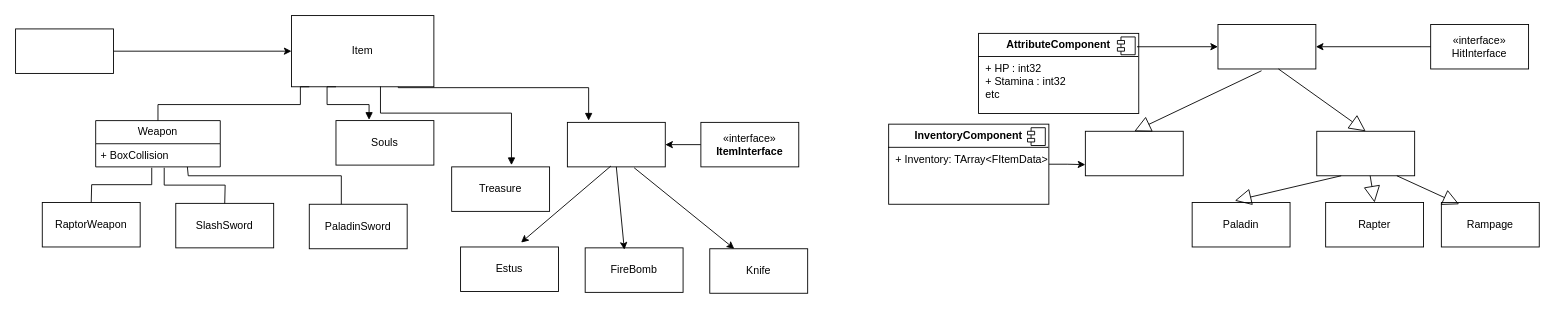
The diagram is 1555 pixels wide and 309 high, and some of its shapes have lost their labels. Each missing label, with the centre of its shape:
BaseCharacter: [1266,46]
Enemy: [1365,153]
SlashCharacter: [1133,153]
UsableItem: [615,144]
«interface» PickupInterface: [64,50]
